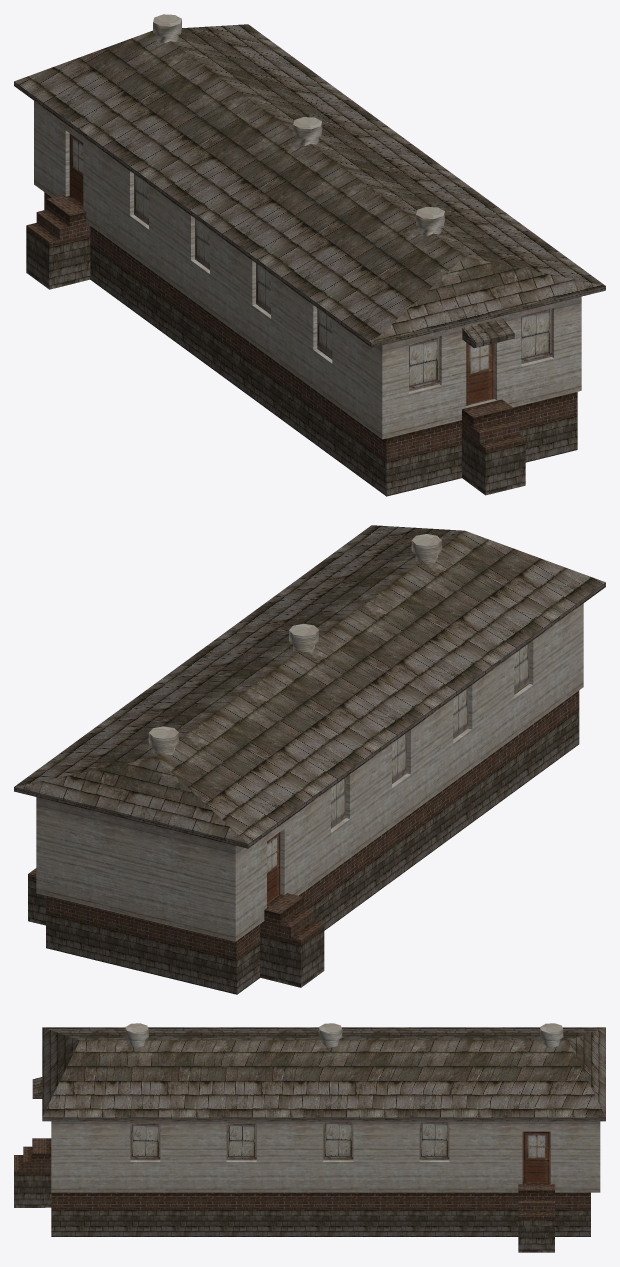
The model's file is Wbarack1.glb.
The picture shows the model from 3 angles, top to bottom: view 1: azimuth 30°, elevation 25°; view 2: azimuth 150°, elevation 25°; view 3: azimuth 270°, elevation 25°; orthographic projection. The views are drawn at different scales.
Visible parts, largest first — view 1: _Wbarack1; view 2: _Wbarack1; view 3: _Wbarack1.
Part boxes in pixels (x1=…): _Wbarack1: x1=14, y1=14, x2=605, y2=496; _Wbarack1: x1=14, y1=525, x2=605, y2=994; _Wbarack1: x1=14, y1=1023, x2=605, y2=1252.
Size of the model in its own units: 10.3 by 7.93 by 24.55.
1 material, 1 textured.
